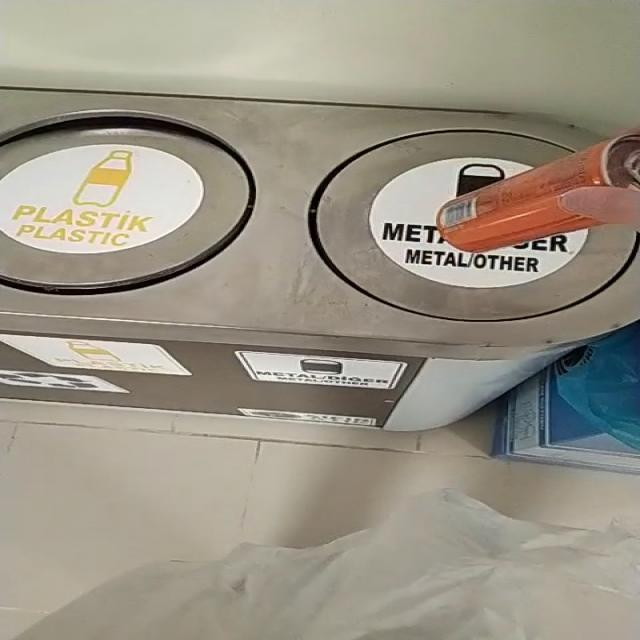Bin: (0, 90, 640, 431)
Metal: (437, 132, 640, 252)
